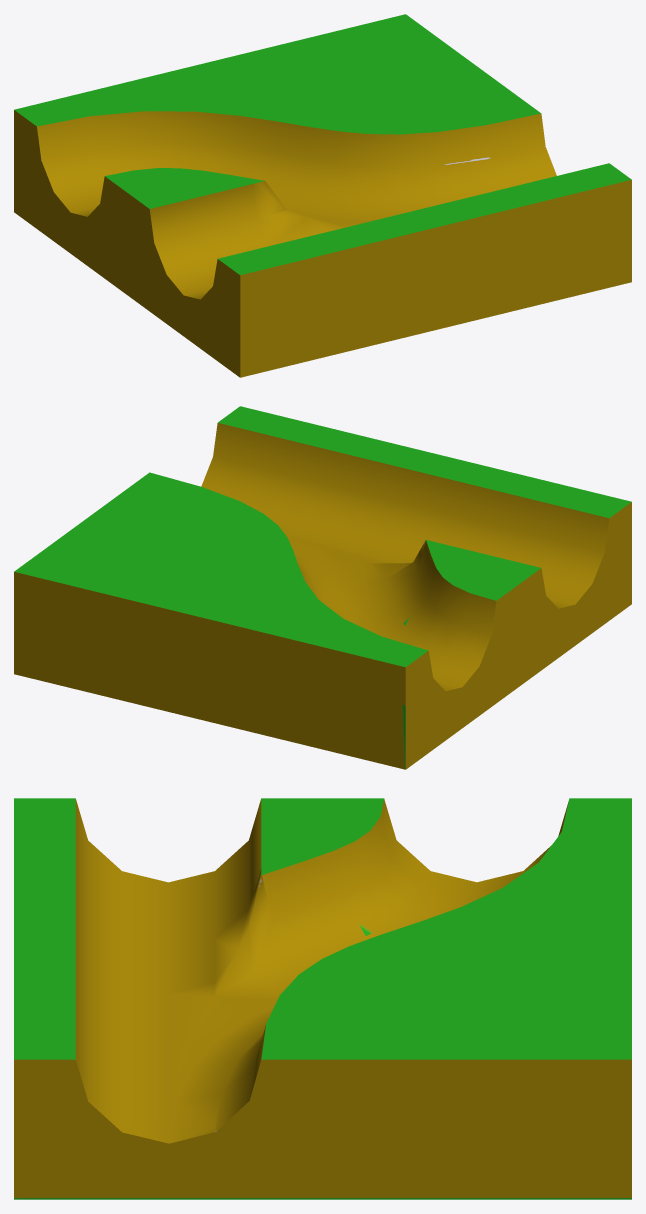
Rendered from threeway2_2.fbx.
3 views of the same model, one above another, from view 1: azimuth 30°, elevation 25°; view 2: azimuth 150°, elevation 25°; view 3: azimuth 270°, elevation 25° (orthographic). The views are drawn at different scales.
Parts seen in each view (by area): view 1: Cube_1_1.037; view 2: Cube_1_1.037; view 3: Cube_1_1.037.
Part boxes in pixels (<box>): Cube_1_1.037: <box>14,14,631,377</box>; Cube_1_1.037: <box>14,406,631,769</box>; Cube_1_1.037: <box>14,798,631,1199</box>.
Bounding box in the file's own units: 400 × 100 × 400.
